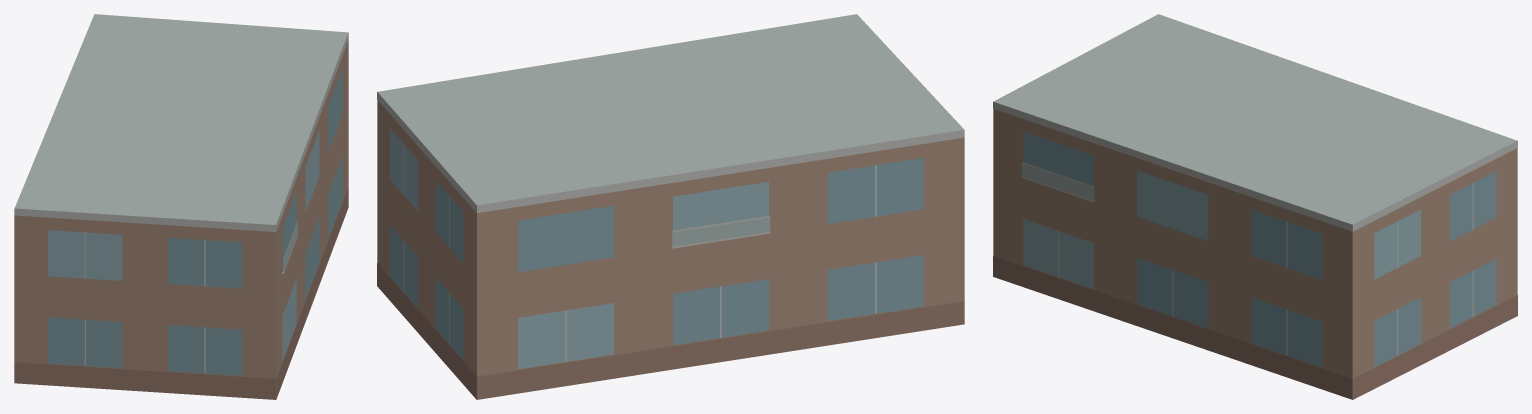
The model's file is survey-upis-32659129.glb.
3 views of the same model, side by side, from view 1: azimuth 30°, elevation 25°; view 2: azimuth 150°, elevation 25°; view 3: azimuth 270°, elevation 25° (orthographic). The views are drawn at different scales.
Visible parts, largest first — view 1: survey-upis-32659129.tmp; view 2: survey-upis-32659129.tmp; view 3: survey-upis-32659129.tmp.
Boxes of the visible parts, x1,y1,x2,y2 form: survey-upis-32659129.tmp: [14, 14, 348, 399]; survey-upis-32659129.tmp: [377, 14, 964, 399]; survey-upis-32659129.tmp: [993, 14, 1517, 399].
Size of the model in its own units: 15.75 by 6.1 by 16.57.
